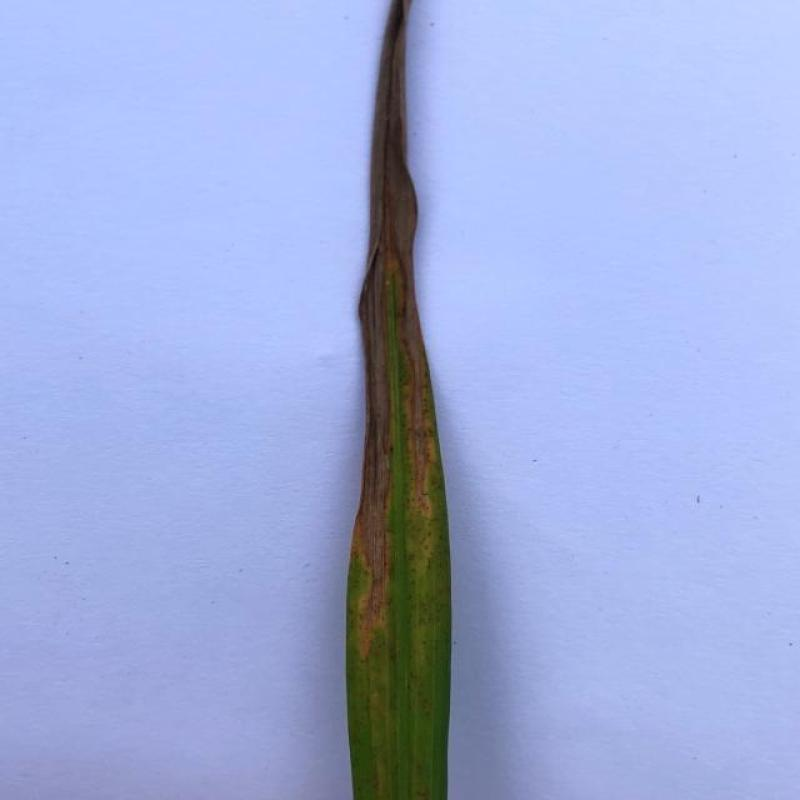Rice Tungro: (396, 278, 444, 538), (360, 316, 391, 642)
